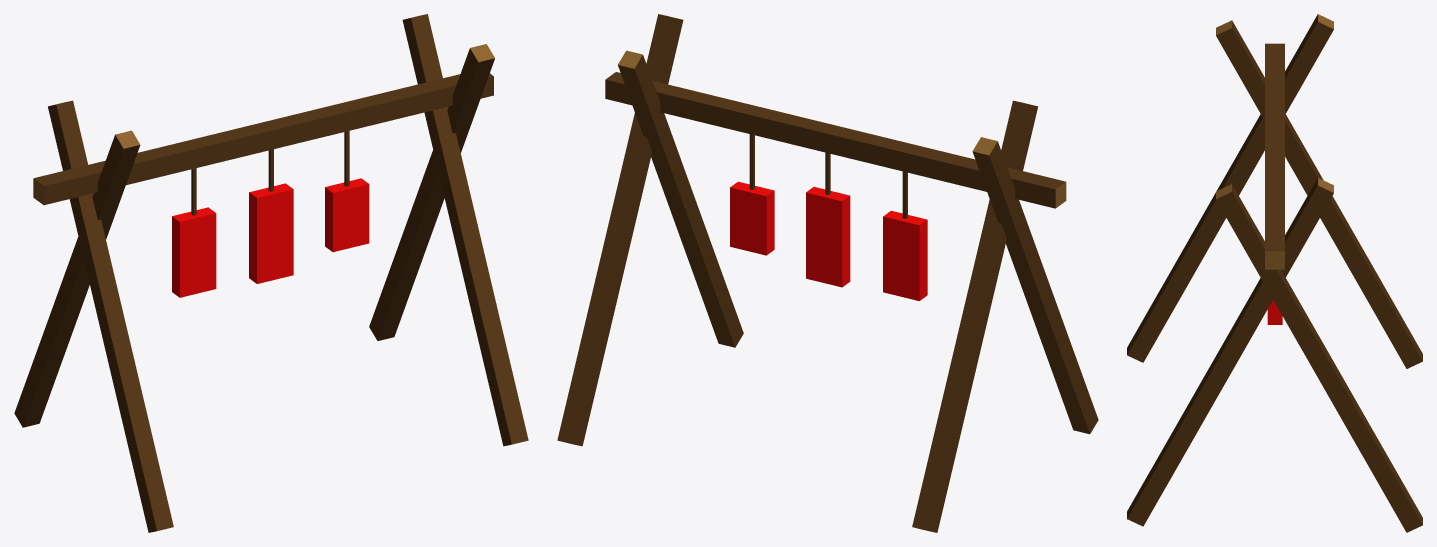
Rendered from WinterSpit.fbx.
The picture shows the model from 3 angles, left to right: view 1: azimuth 30°, elevation 25°; view 2: azimuth 150°, elevation 25°; view 3: azimuth 270°, elevation 25°; orthographic projection. The views are drawn at different scales.
Parts seen in each view (by area): view 1: WinterSpit; view 2: WinterSpit; view 3: WinterSpit.
Boxes of the visible parts, bbox=[...] form: WinterSpit: bbox=[14, 14, 528, 532]; WinterSpit: bbox=[557, 14, 1098, 532]; WinterSpit: bbox=[1127, 14, 1422, 532].
Size of the model in its own units: 0.3007 by 0.2303 by 0.1809.
